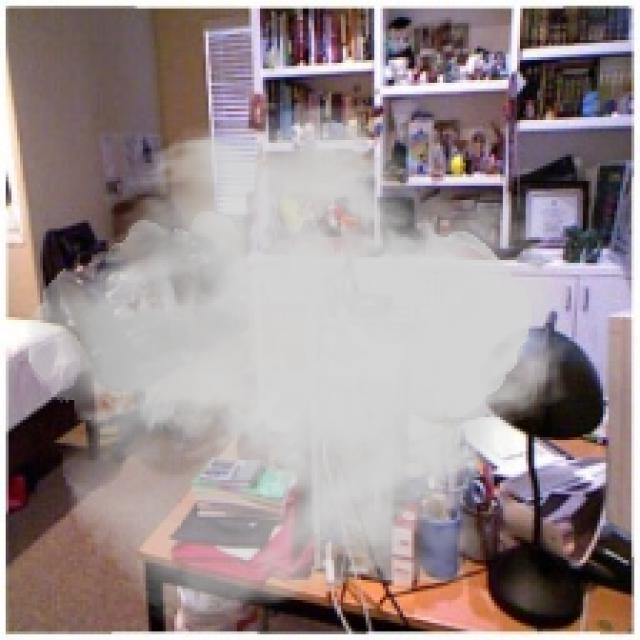Smoke: (26, 94, 588, 629)
